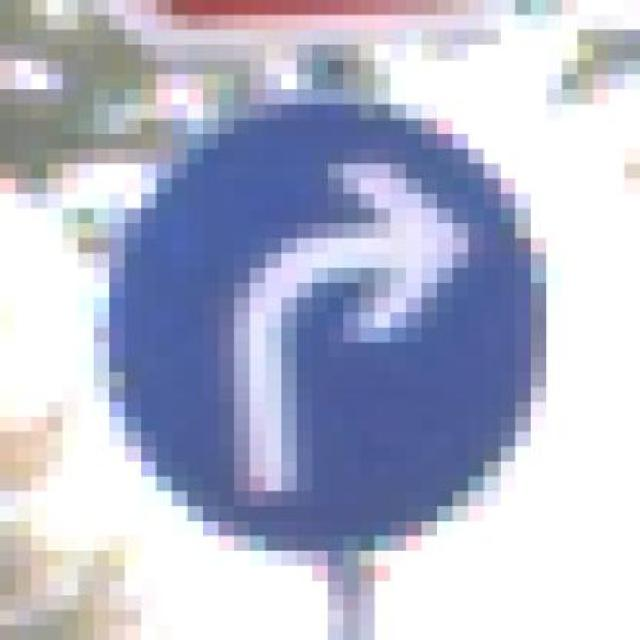Turn right ahead: (73, 96, 558, 558)
